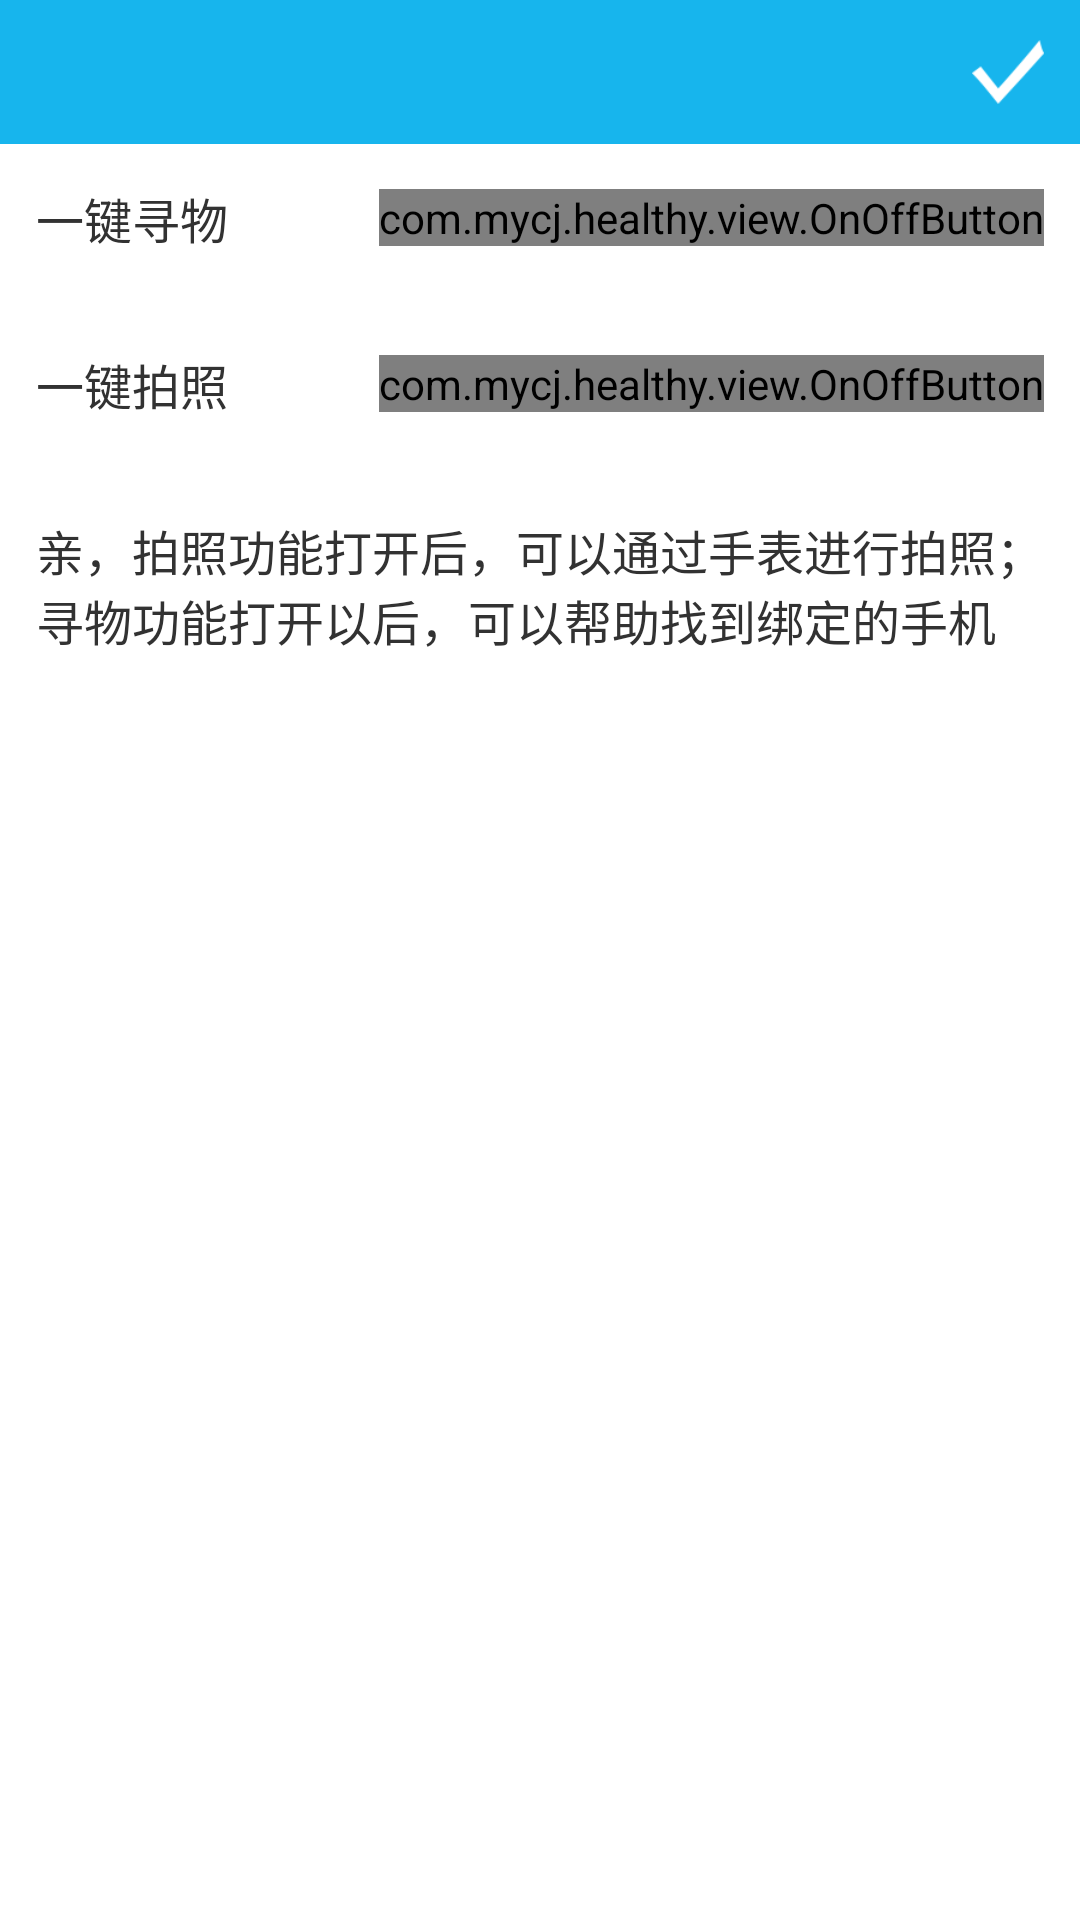

Icon click points for this 1080px x 1920px phone screenshot, format point (x, y):
setting done: point (1008, 72)
